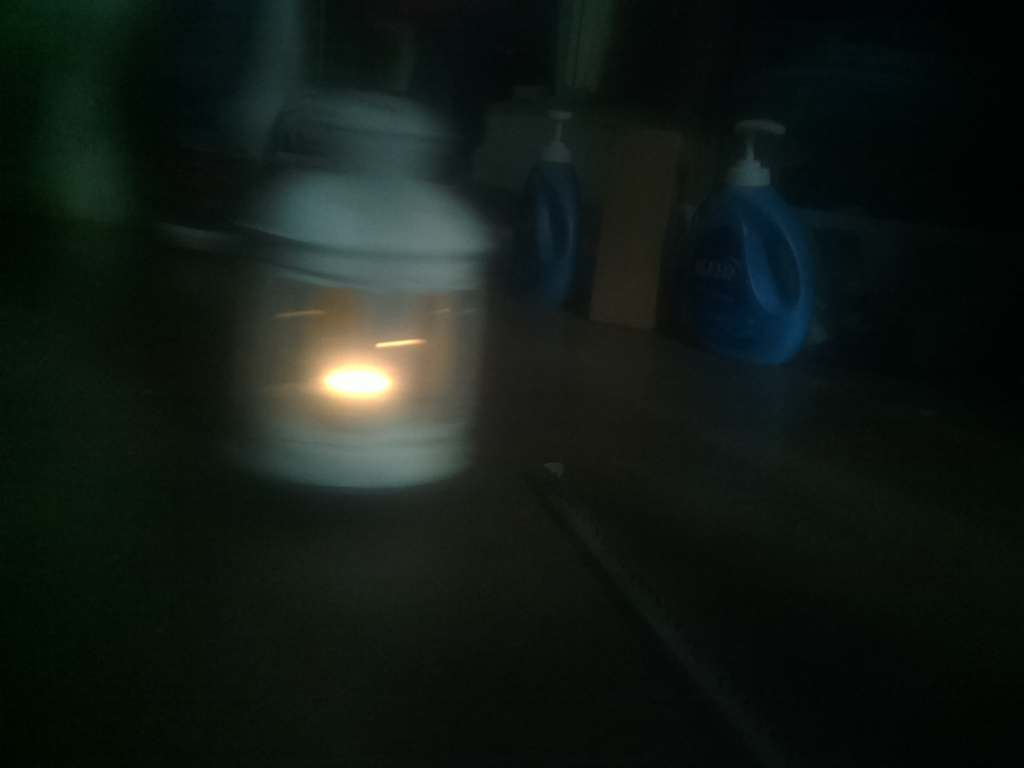fire: (295, 317, 429, 438)
